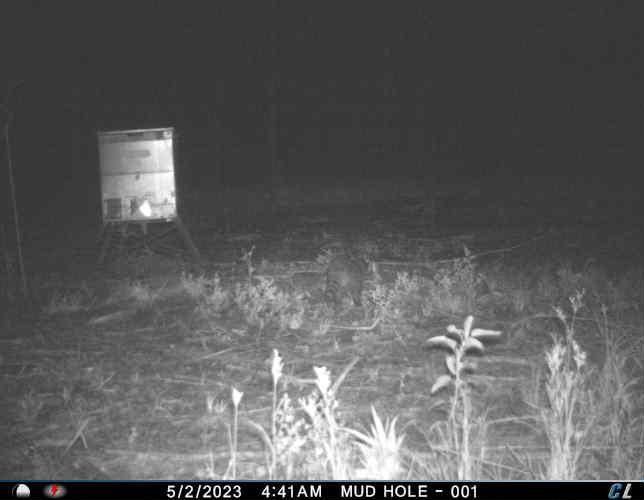Raccoon: (320, 253, 368, 310)
